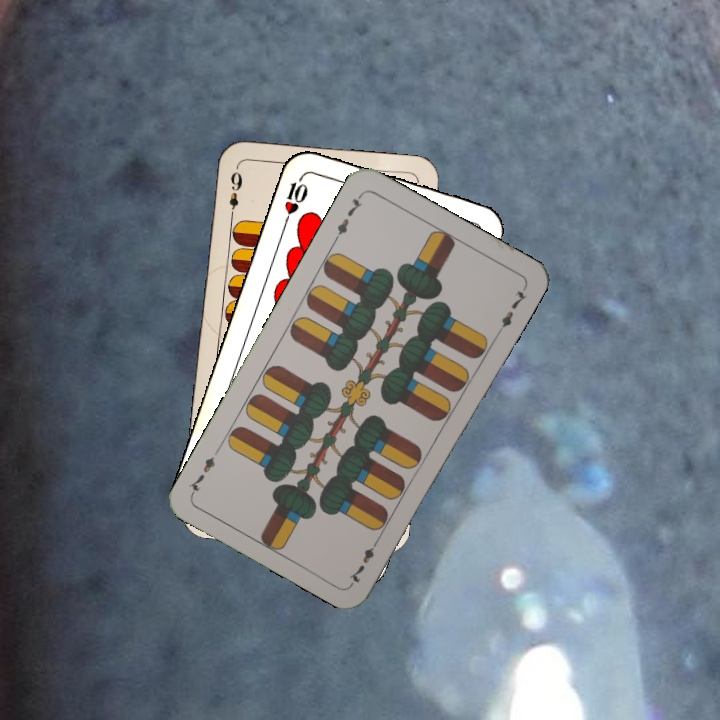E7: (345, 533, 383, 586), (330, 190, 365, 244)
E9: (225, 168, 245, 223)
H10: (280, 170, 311, 227)
